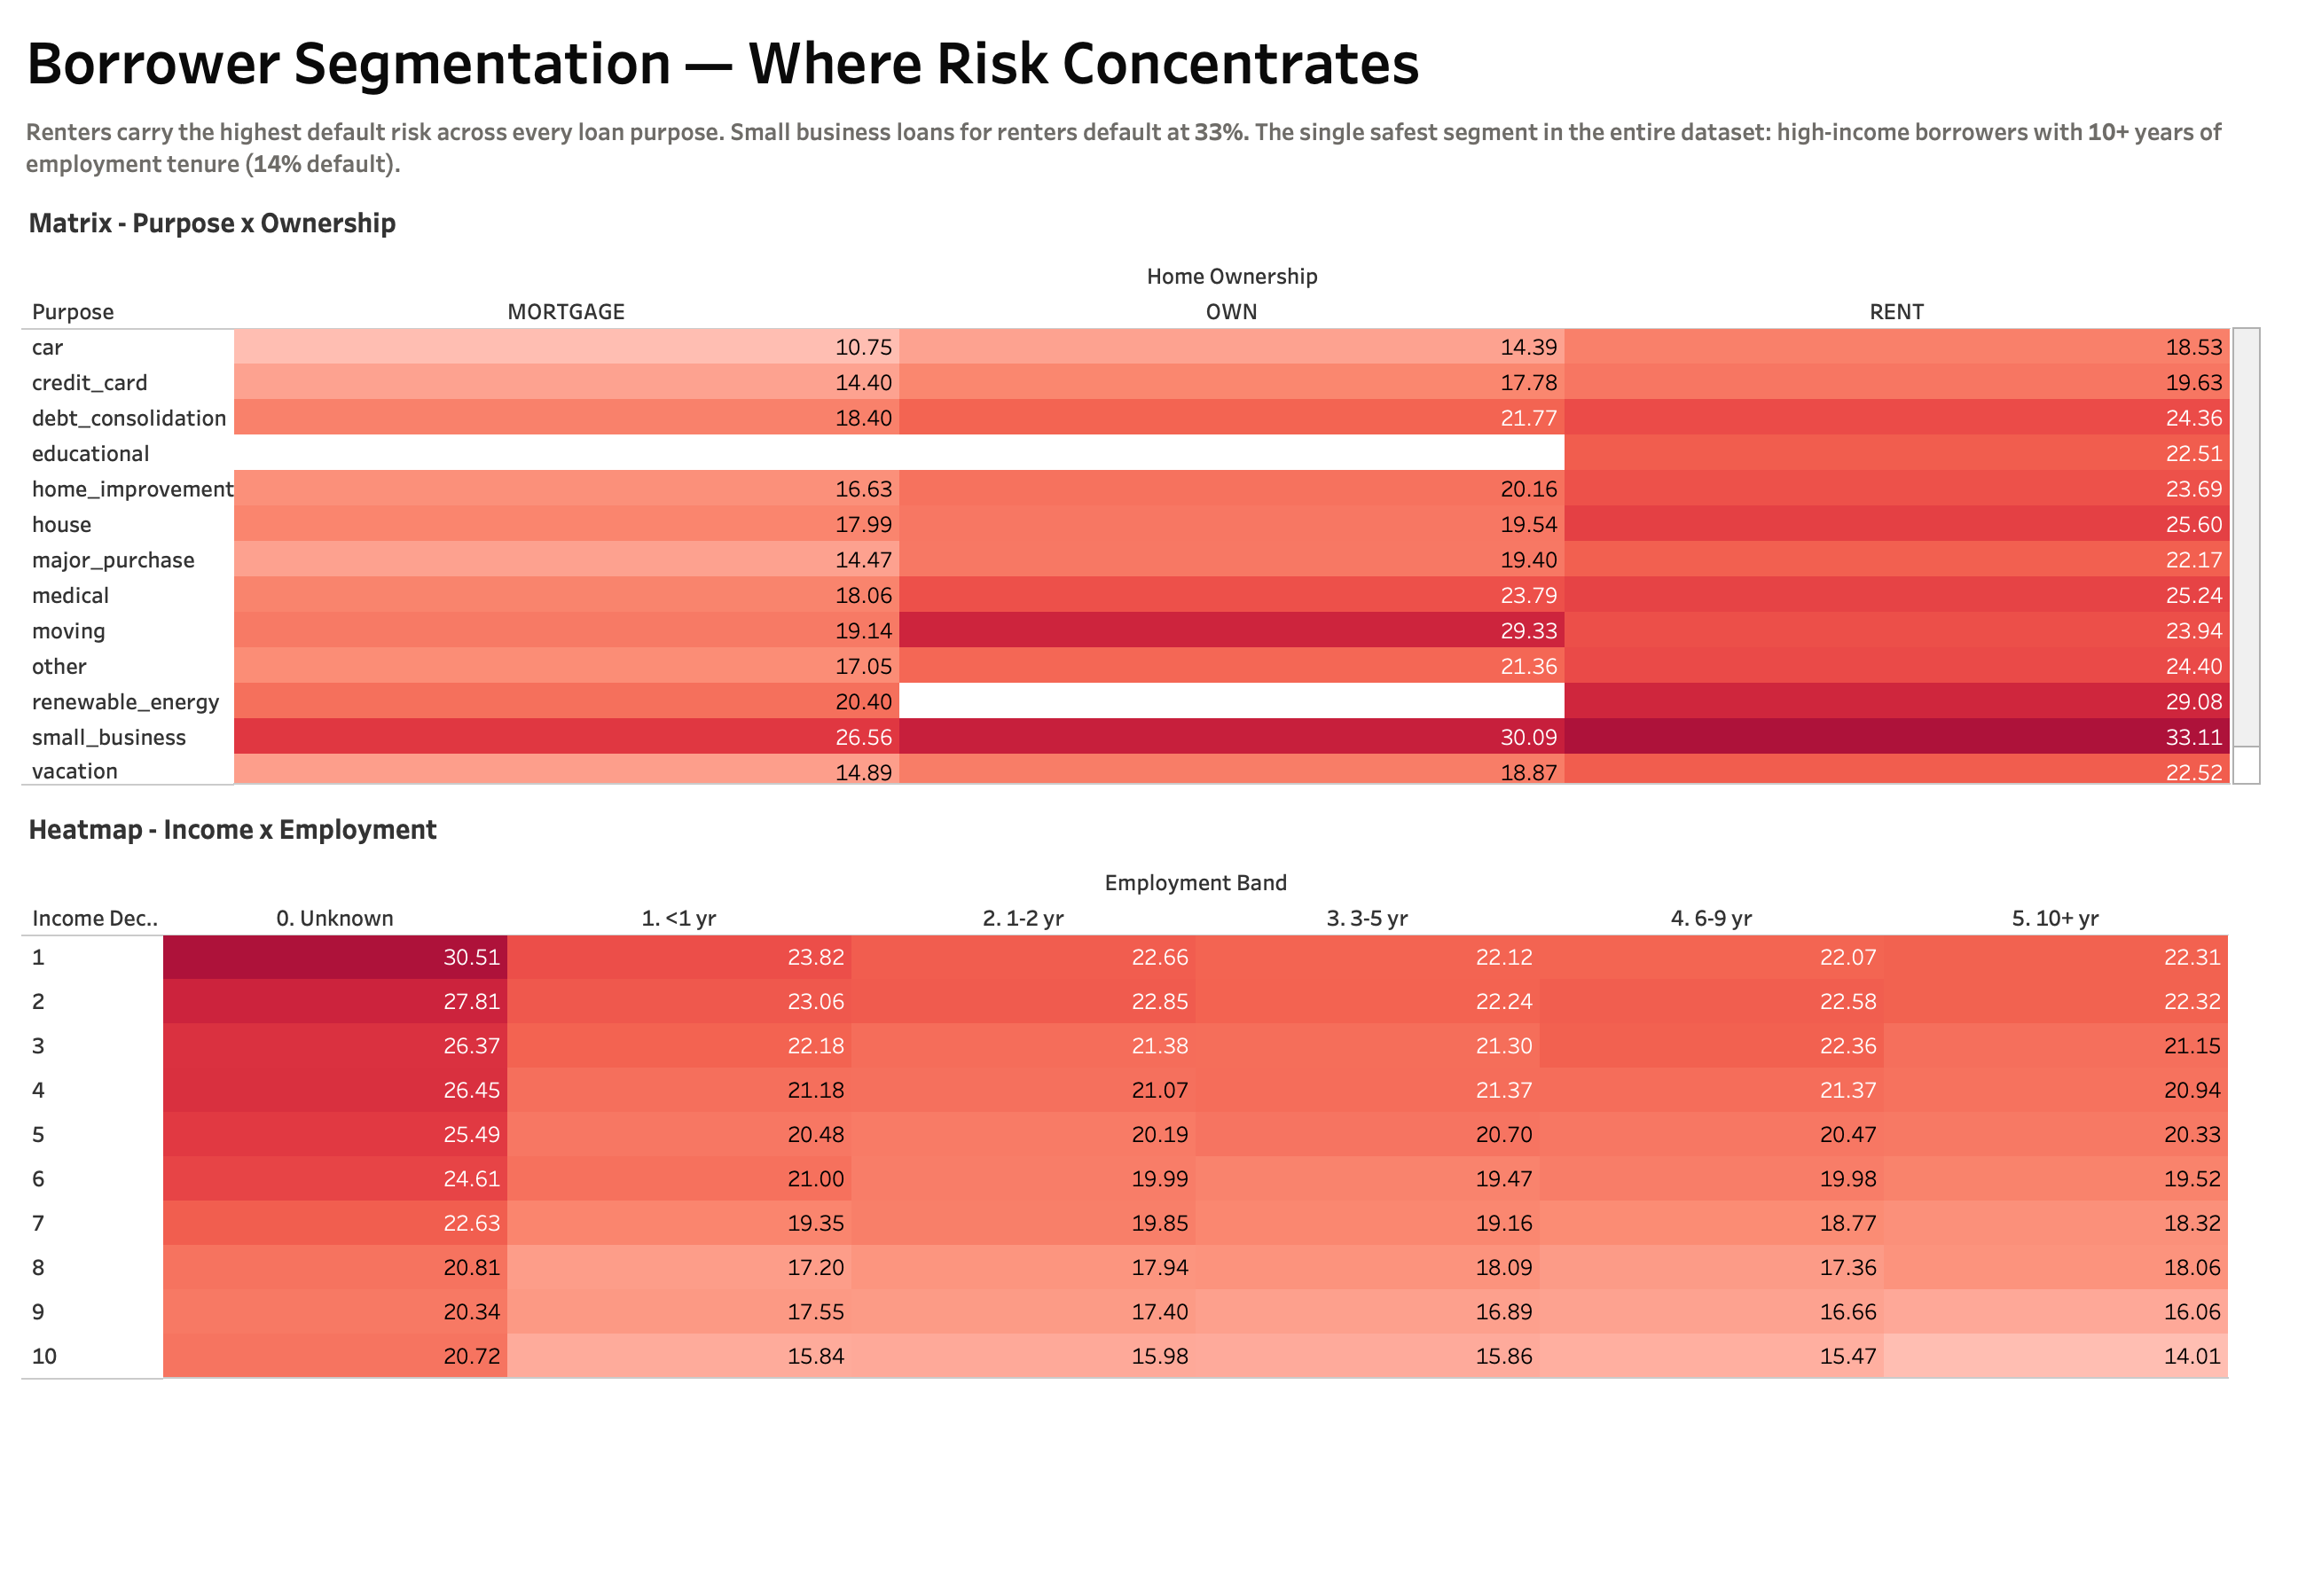

Layout of this report page (visuals, bound fields, positions):
{"tool":"tableau","page":{"name":"2. Borrower Segmentation","canvas":[1300,900],"ordinal":1},"visuals":[{"type":"title","box":[8,8,1284,53]},{"type":"text","box":[8,61,1284,44]},{"type":"worksheet","title":"Matrix - Purpose x Ownership","mark":"Square","rows":["purpose"],"cols":["home_ownership"],"box":[8,105,1284,341.8]},{"type":"worksheet","title":"Heatmap - Income x Employment","mark":"Square","rows":["income_decile"],"cols":["employment_band"],"box":[8,446.8,1284,445.2]}]}

Visuals, with their boxes in screenshot pixels (x1, y1, x2, y2), scaled from the page's 1300x900 canvas onto the 2306x1596 screenshot:
title: BBox(14, 14, 2292, 108)
text: BBox(14, 108, 2292, 186)
"Matrix - Purpose x Ownership" worksheet (Square marks): BBox(14, 186, 2292, 793)
"Heatmap - Income x Employment" worksheet (Square marks): BBox(14, 793, 2292, 1582)
